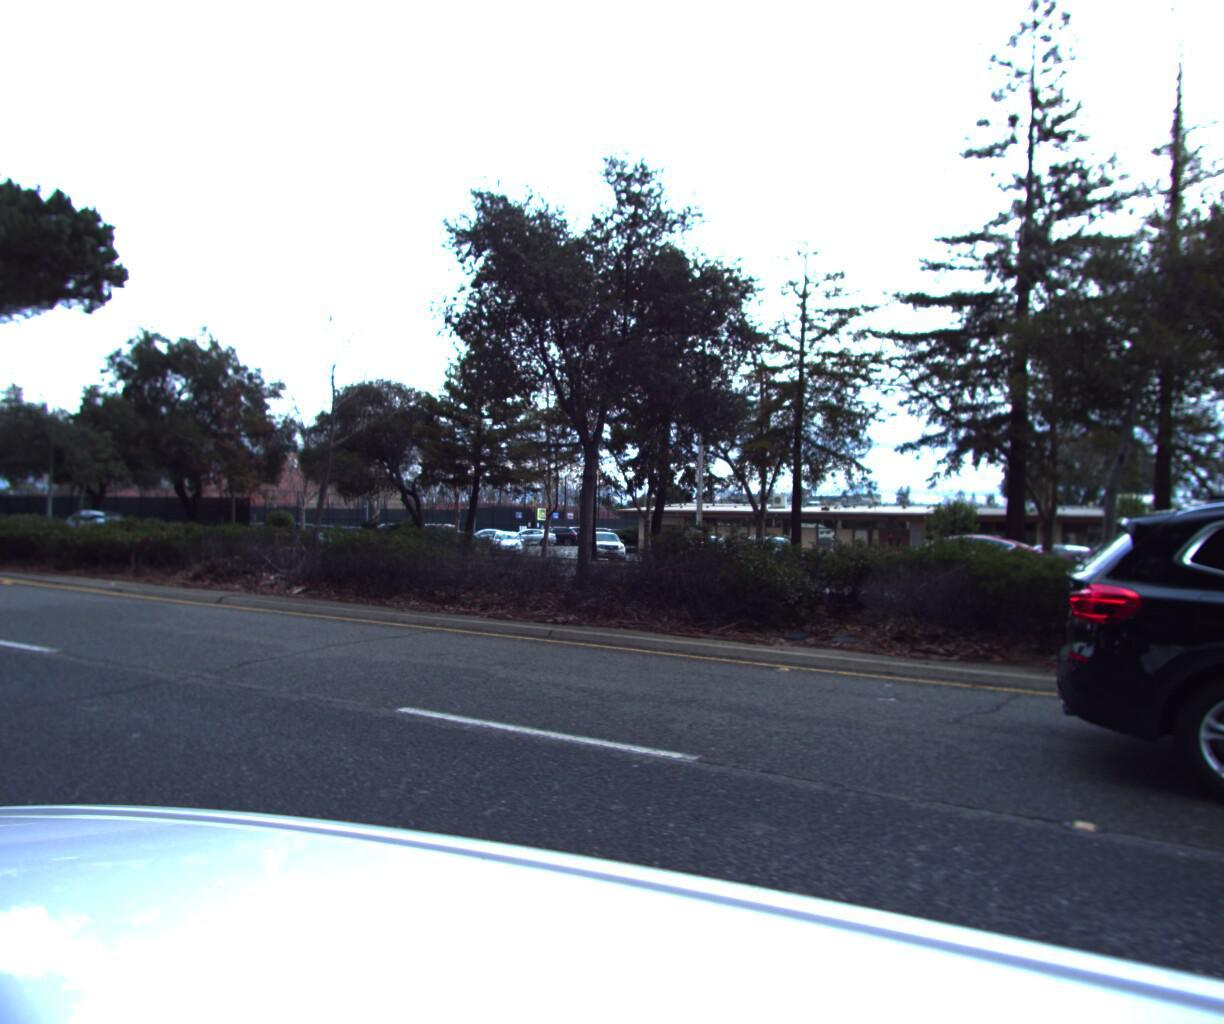car: (1039, 440, 1224, 981), (1047, 514, 1224, 610), (856, 528, 1045, 594), (45, 511, 136, 544)
